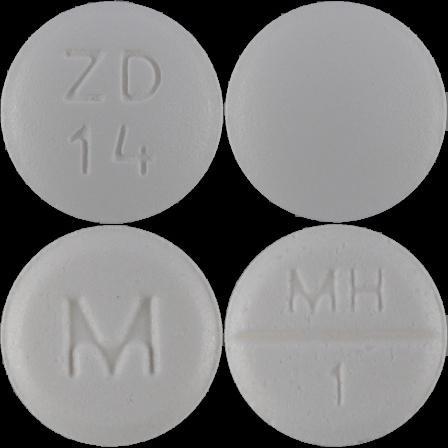0615-7564: (0, 0, 224, 224)
